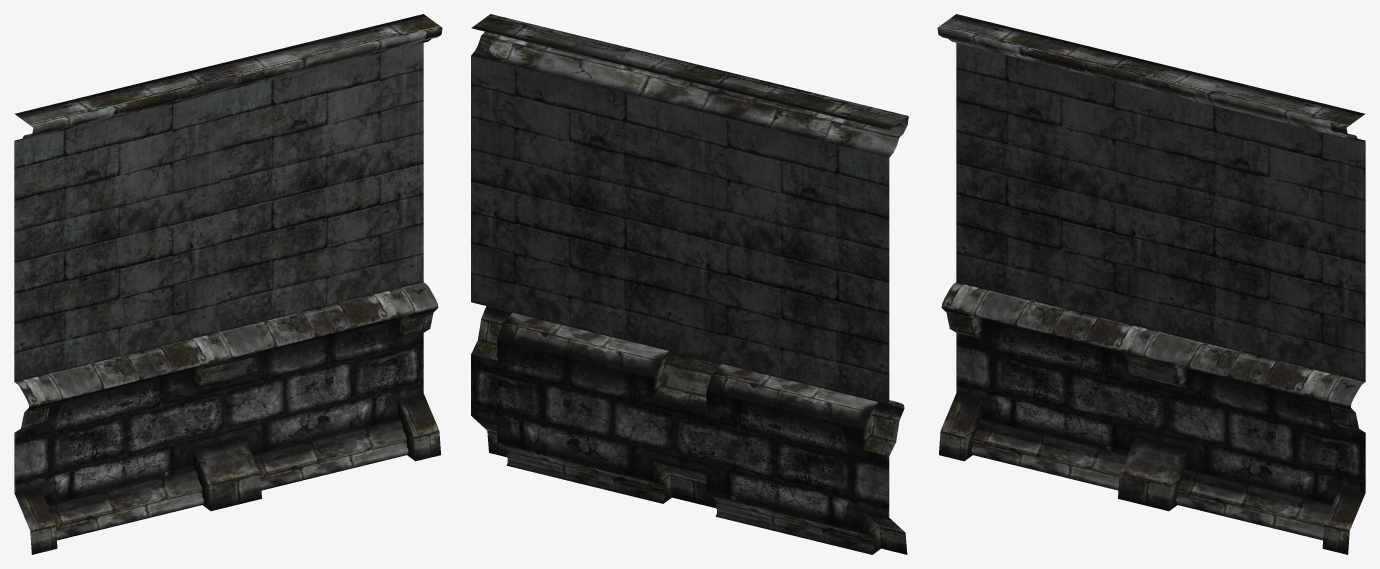
Rendered from default_alt.dae.
3 renders of one model, left to right at view 1: azimuth 30°, elevation 25°; view 2: azimuth 150°, elevation 25°; view 3: azimuth 330°, elevation 25°, orthographic. The views are drawn at different scales.
Visible parts, largest first — view 1: polySurface111; view 2: polySurface111; view 3: polySurface111.
Part boxes in pixels (box(x1,y1,x2,y2)): polySurface111: box(14, 14, 442, 554); polySurface111: box(471, 14, 908, 554); polySurface111: box(937, 14, 1365, 554).
Size of what is drawn, in the model's own units: 4 by 4 by 0.3219.
